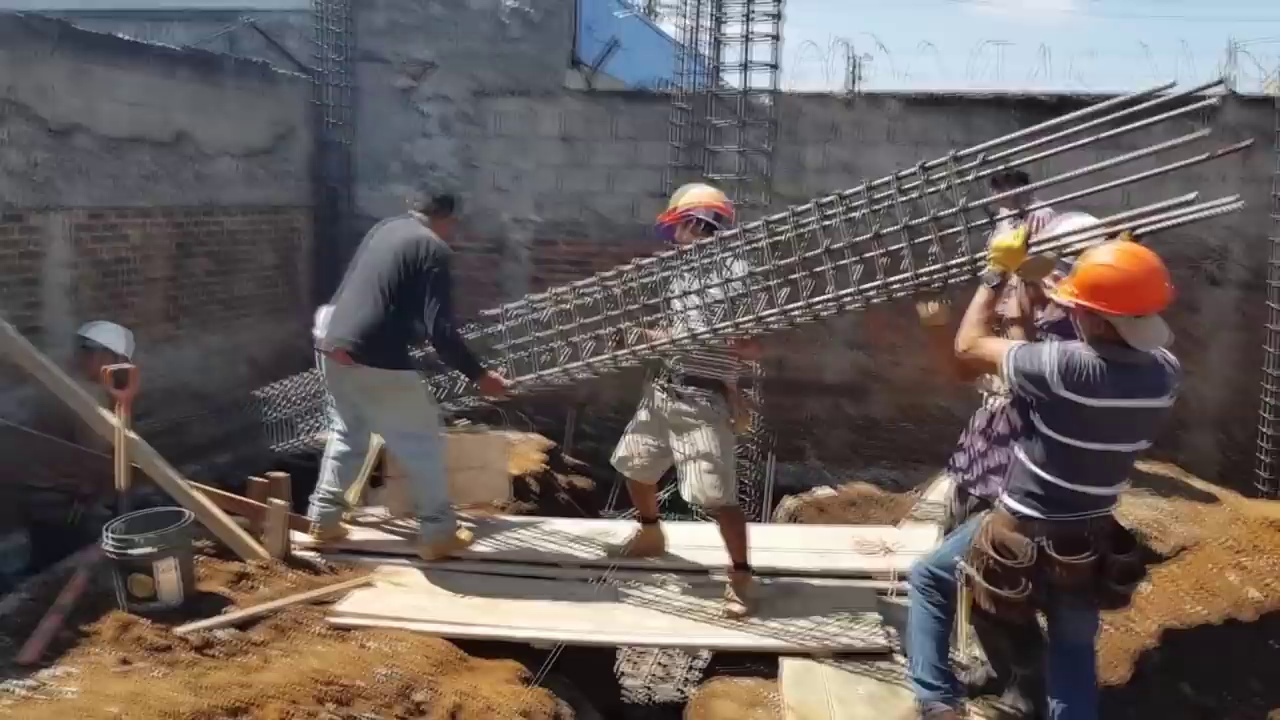helmet: (1061, 241, 1184, 336), (652, 182, 731, 236), (68, 321, 130, 372)
helmet-off: (987, 166, 1036, 214), (412, 188, 460, 235)
helmet-on: (1054, 242, 1189, 368), (653, 175, 736, 261), (68, 317, 138, 389)
person: (903, 246, 1190, 717), (314, 193, 498, 579), (607, 177, 757, 612), (7, 313, 137, 549), (951, 161, 1058, 342)
